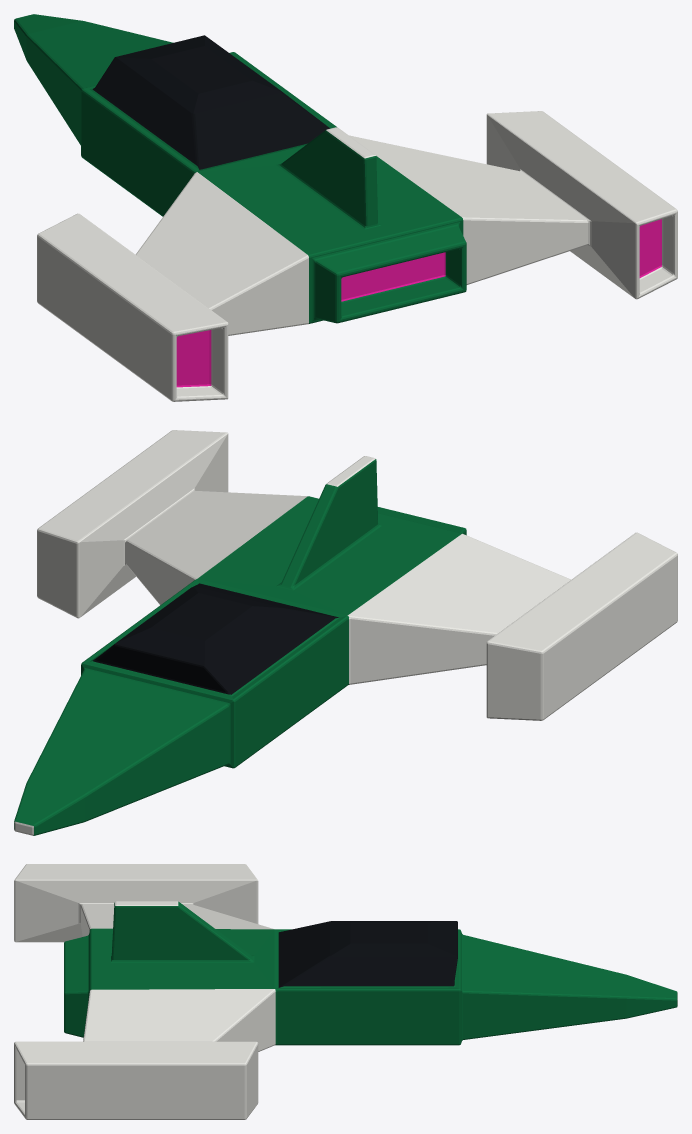
File: nave_espacial.obj
3 views of the same model, one above another, from view 1: azimuth 30°, elevation 25°; view 2: azimuth 150°, elevation 25°; view 3: azimuth 270°, elevation 25° (orthographic). The views are drawn at different scales.
Visible parts, largest first — view 1: Nave; view 2: Nave; view 3: Nave.
Part boxes in pixels (x1,y1,x2,y2): Nave: (14, 14, 677, 401); Nave: (14, 430, 677, 835); Nave: (14, 864, 677, 1119).
Size of the model in its own units: 4.6 by 1.28 by 6.43.
